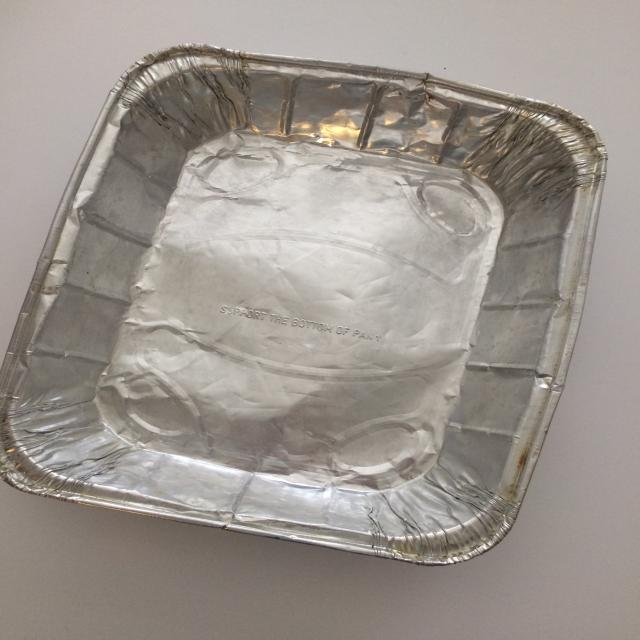metal: (7, 40, 610, 566)
